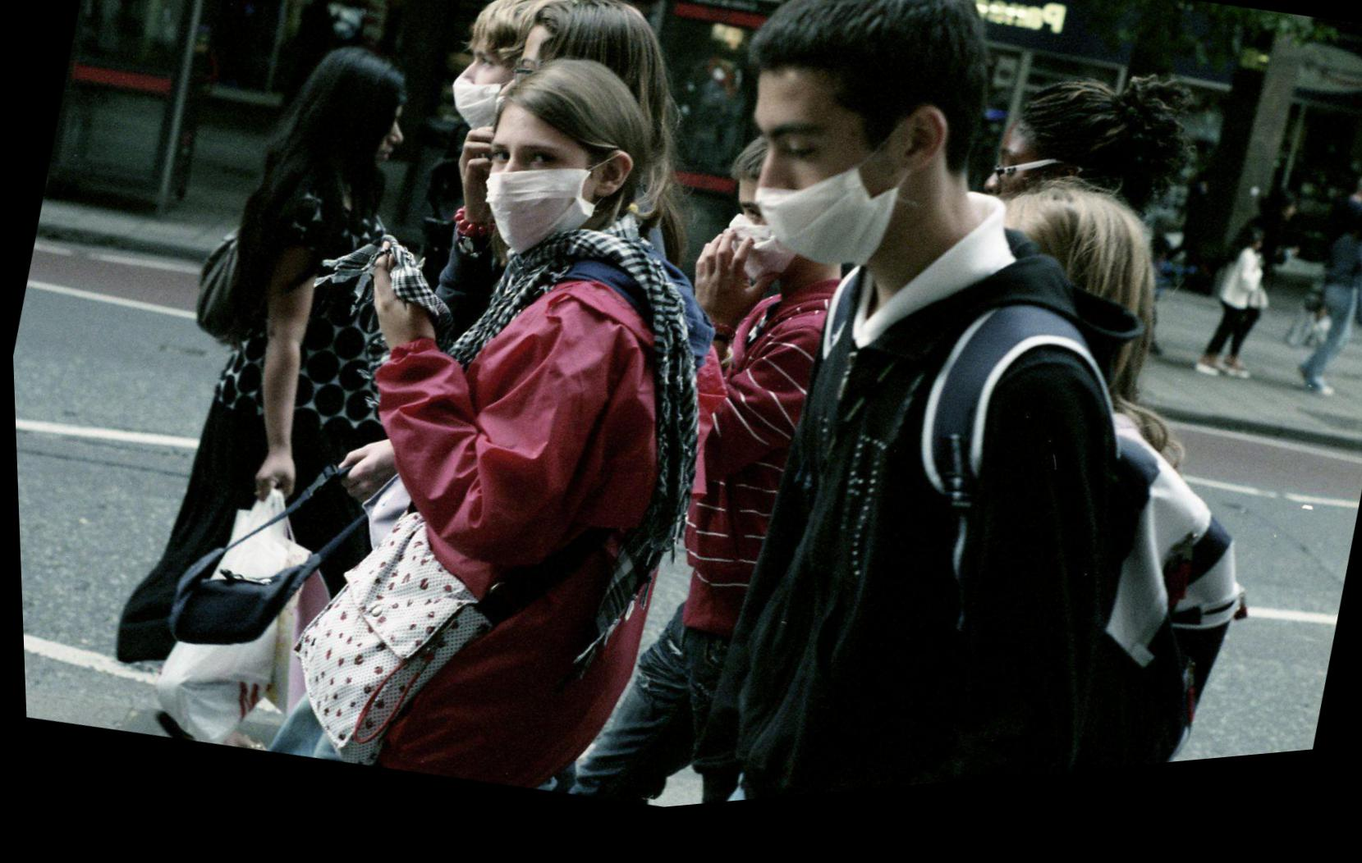OK: (467, 137, 600, 274), (710, 194, 828, 309)
WRONG: (728, 43, 948, 316), (435, 49, 539, 155)
